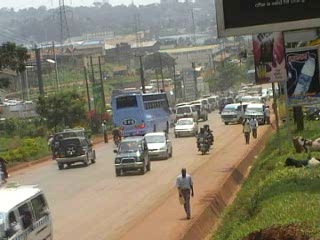Car: (112, 133, 152, 177), (52, 136, 100, 168), (142, 128, 174, 160), (172, 116, 197, 137), (217, 95, 236, 114), (190, 103, 208, 122)
Motorcycle: (0, 154, 14, 189), (195, 125, 210, 155), (110, 122, 122, 148), (203, 122, 216, 146)
